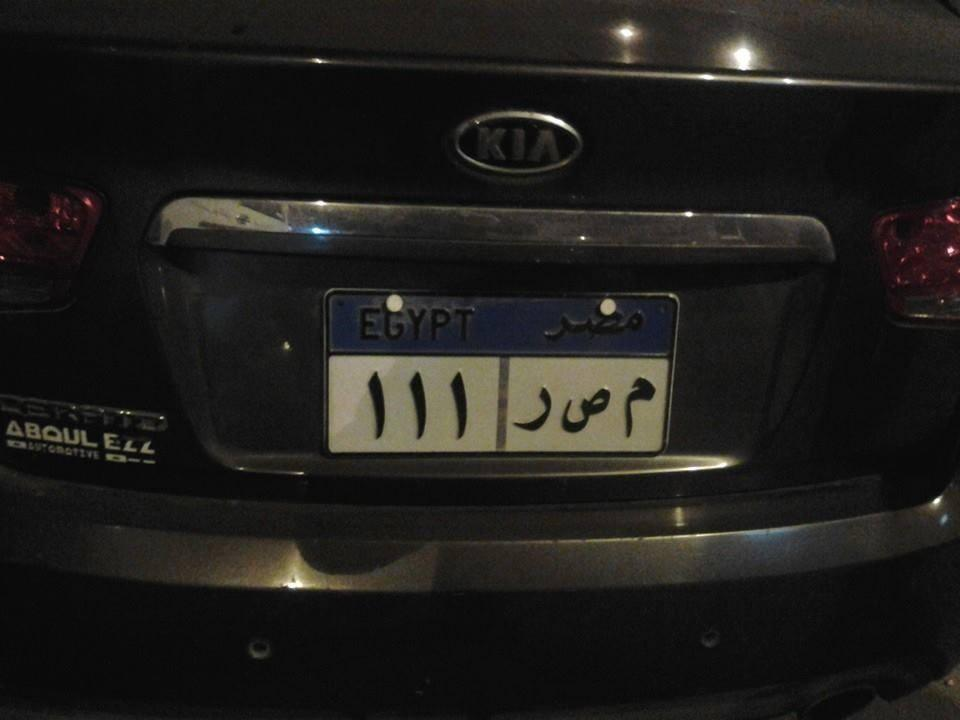1: (444, 365, 483, 447), (365, 367, 395, 441), (406, 365, 434, 444)
License Plate: (320, 284, 683, 462)
Meem: (622, 374, 658, 440)
R: (512, 380, 553, 436)
Saad: (561, 380, 612, 437)
